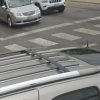crosswalk: (0, 24, 99, 55)
